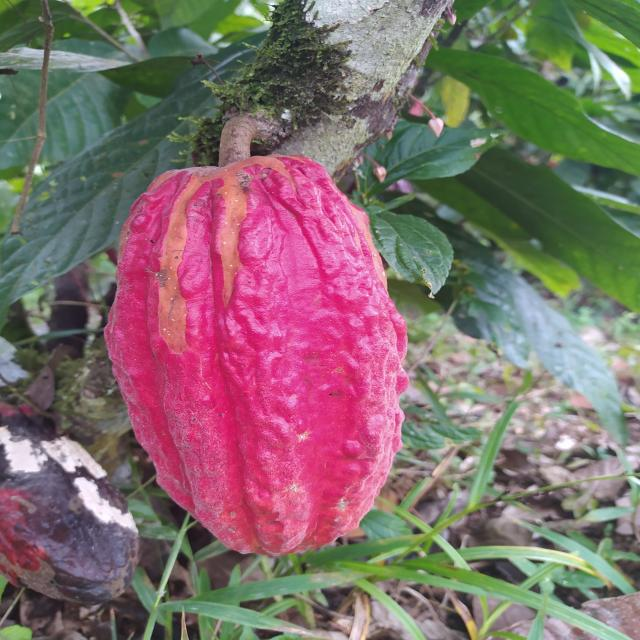Monilia: (0, 401, 140, 602)
Sana: (102, 156, 408, 557)
